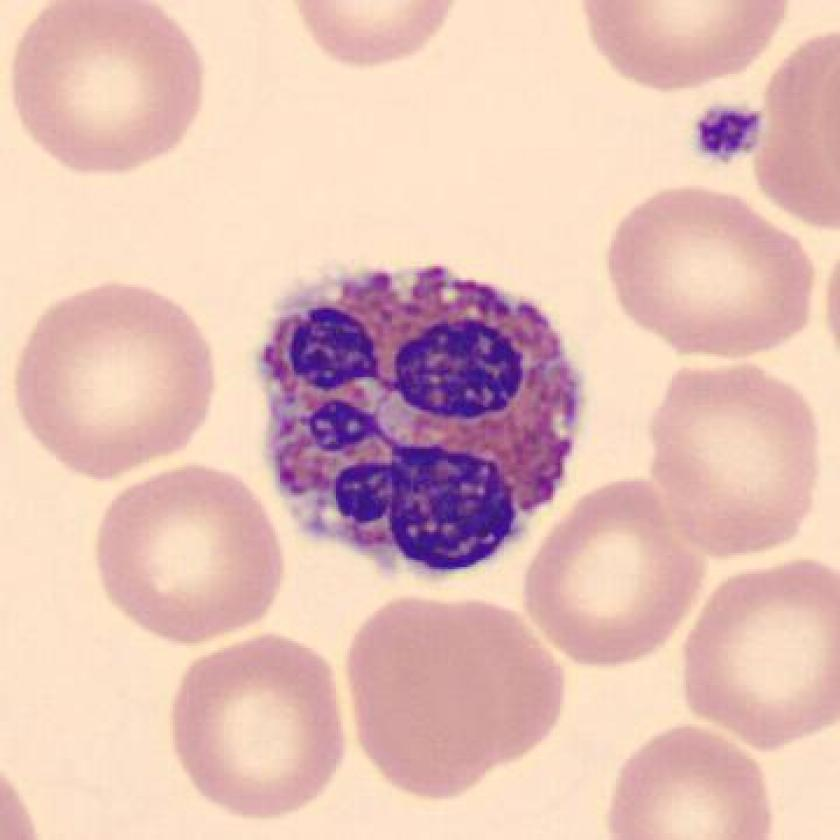eosinophil: (239, 251, 598, 589)
